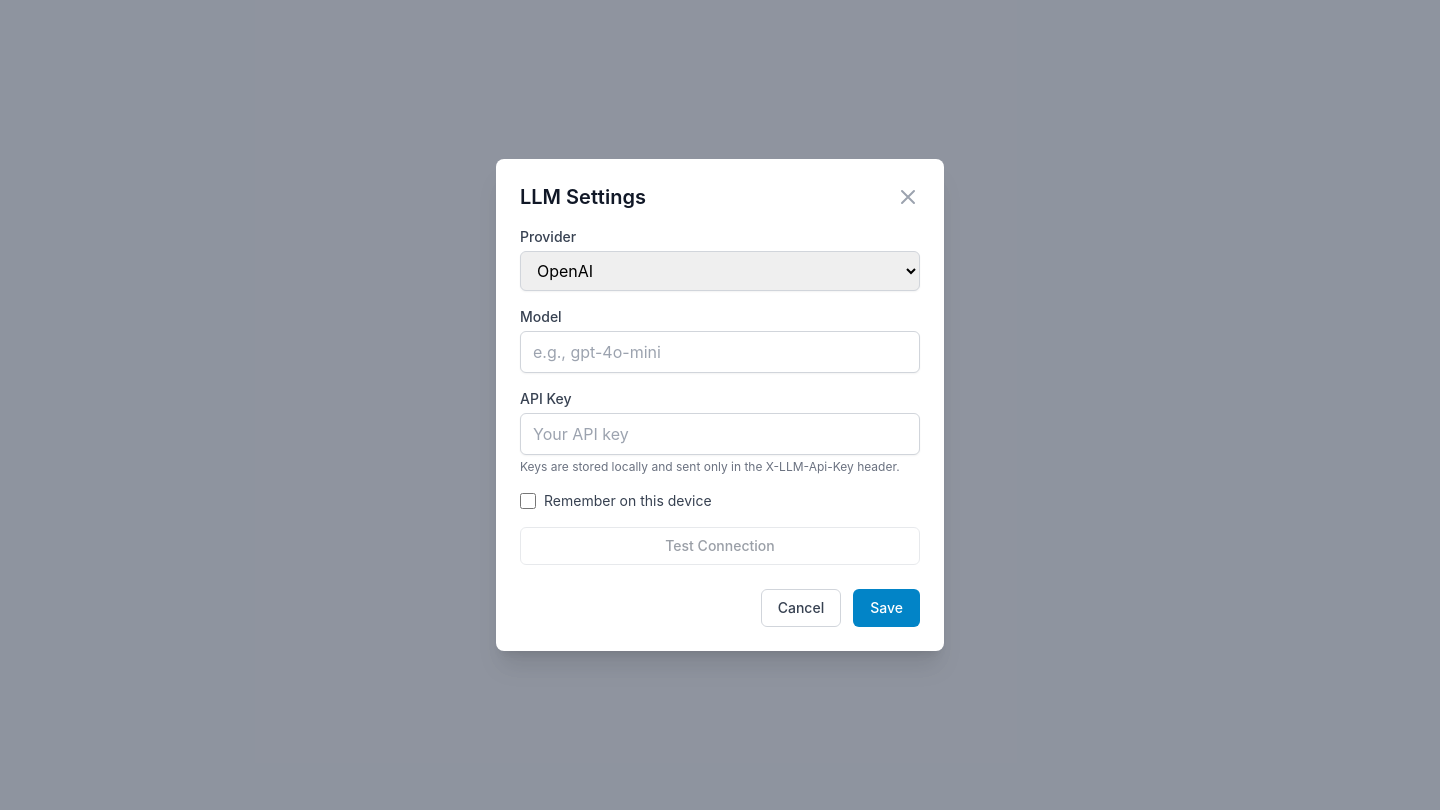
Scenario: LLMSettingsDialog › should show warning when rememberKey is enabled
Click the checkbox with test id "remember-key-checkbox" at (528, 501), box [520, 493, 536, 509]
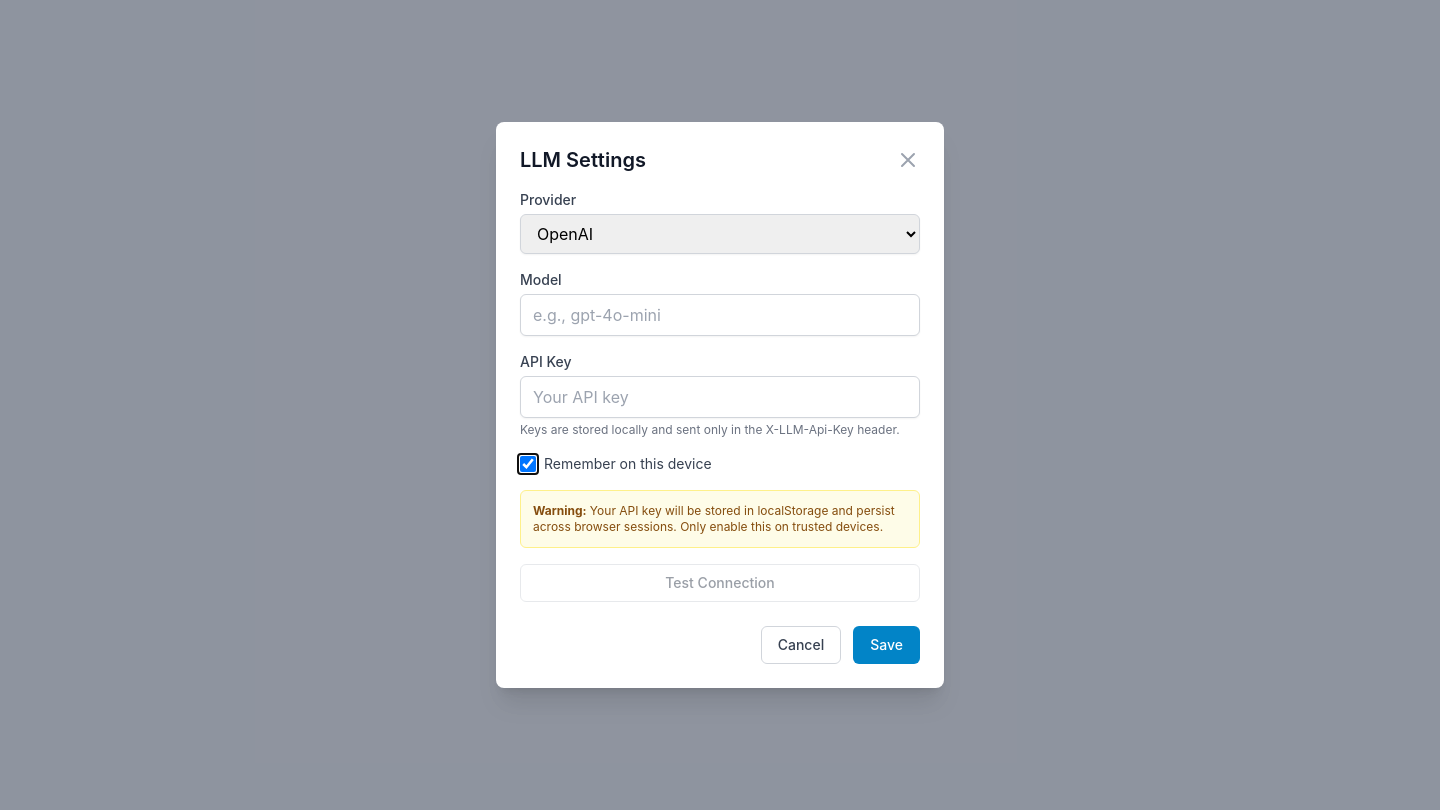
Expected: the text "Your API key will be stored in localStorage" is shown, [533, 503, 895, 534]
